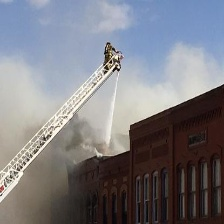smoke: (1, 75, 103, 224)
